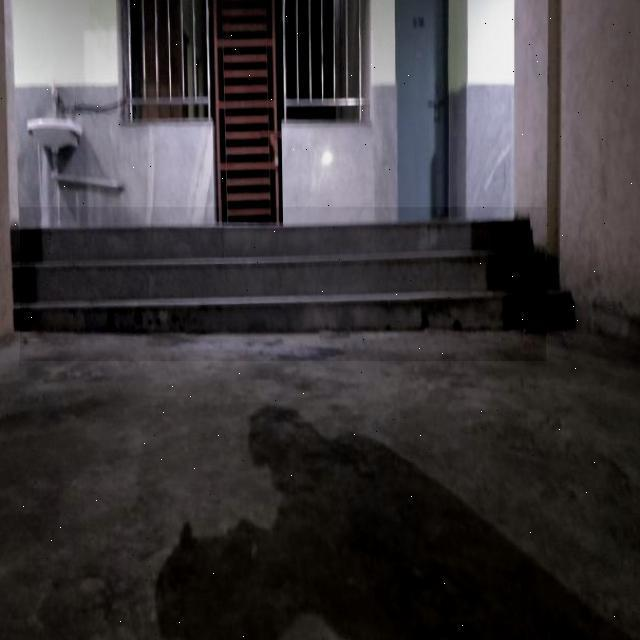stair: (20, 207, 546, 361)
